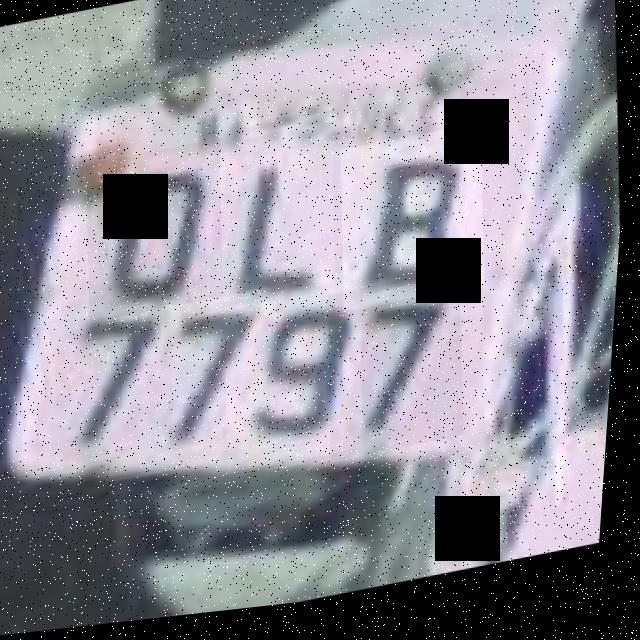7: (323, 279, 479, 470), (30, 285, 188, 462), (130, 287, 273, 472)
9: (219, 276, 379, 481)
B: (334, 132, 497, 321)
J: (198, 138, 349, 329)
O: (80, 142, 235, 325)
